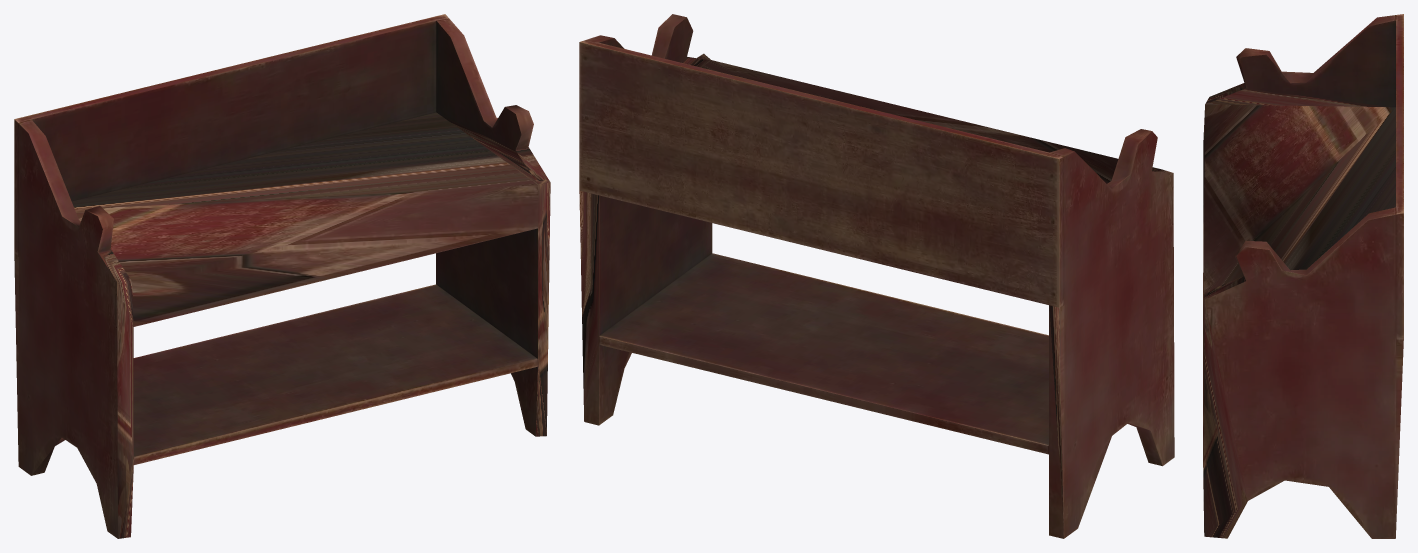
Rendered from painted_wooden_bench_lod2.glb.
3 renders of one model, left to right at view 1: azimuth 30°, elevation 25°; view 2: azimuth 150°, elevation 25°; view 3: azimuth 270°, elevation 25°, orthographic. The views are drawn at different scales.
Parts seen in each view (by area): view 1: painted_wooden_bench; view 2: painted_wooden_bench; view 3: painted_wooden_bench.
Boxes of the visible parts, x1=… form: painted_wooden_bench: x1=14, y1=14, x2=550, y2=538; painted_wooden_bench: x1=579, y1=14, x2=1174, y2=538; painted_wooden_bench: x1=1203, y1=14, x2=1403, y2=538.
Size of the model in its own units: 1.16 by 0.8893 by 0.4965.
1 material, 1 textured.
